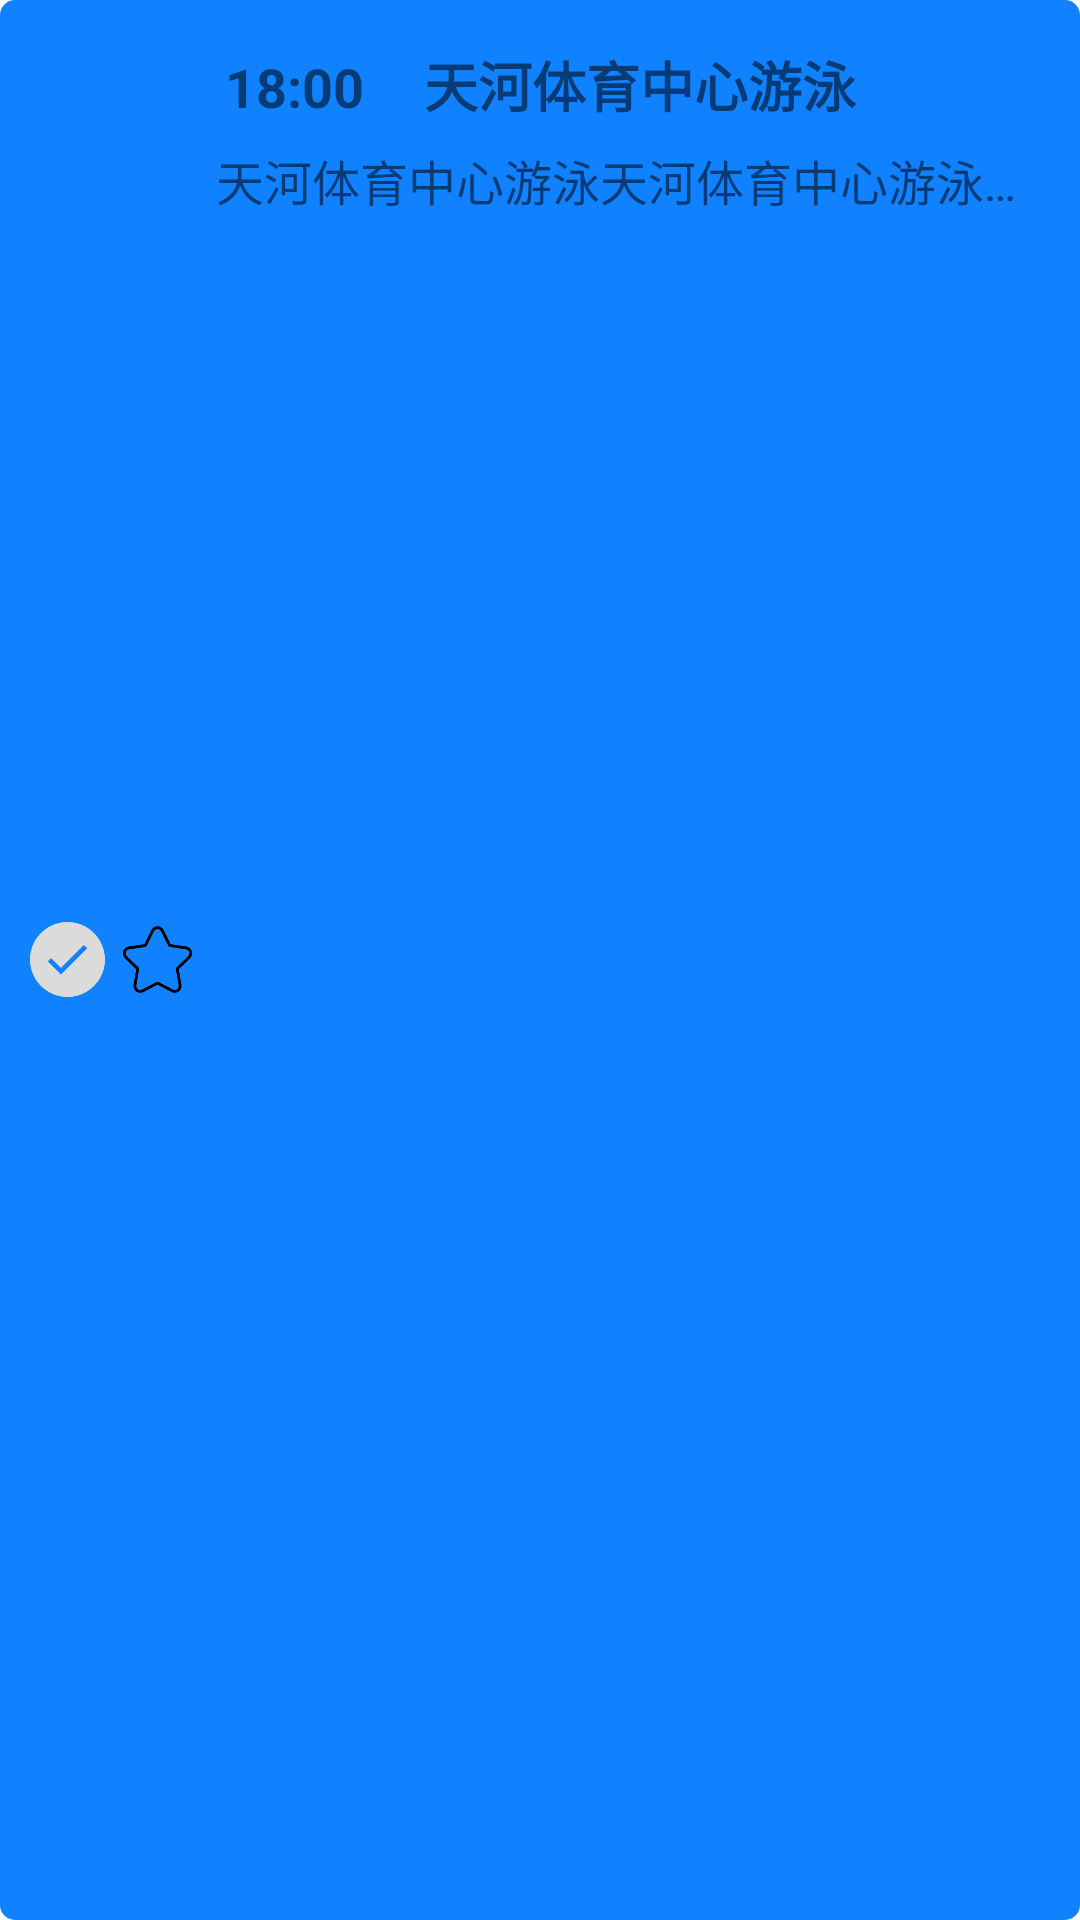

Icons on this 1080w x 1920h Android screen, each with its box as (x1, y1, x2, y2):
unstar: (123, 926, 192, 993)
